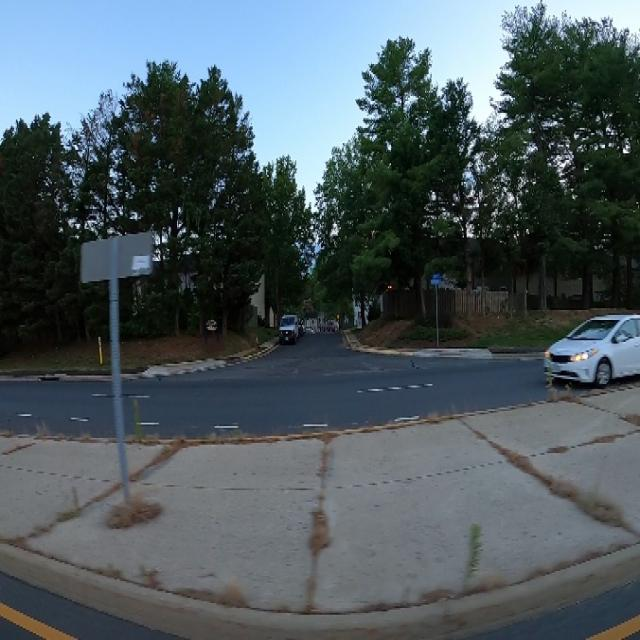car: (539, 296, 640, 402), (277, 303, 299, 349)
